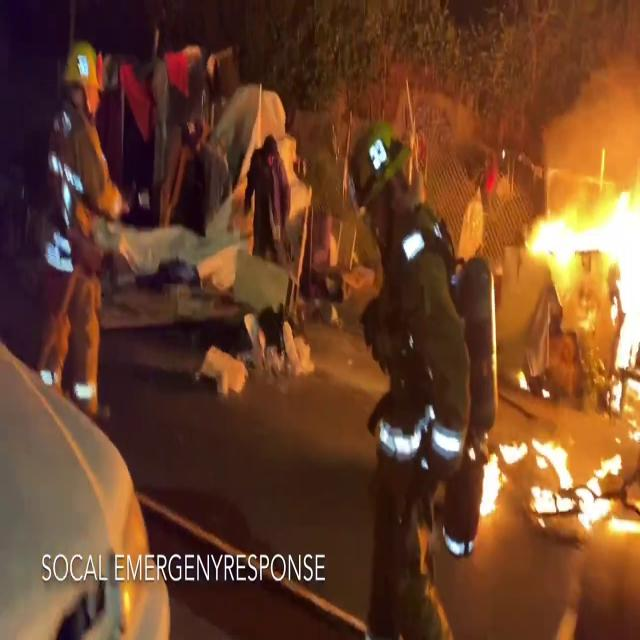Fire: (531, 134, 640, 420), (485, 427, 639, 539)
